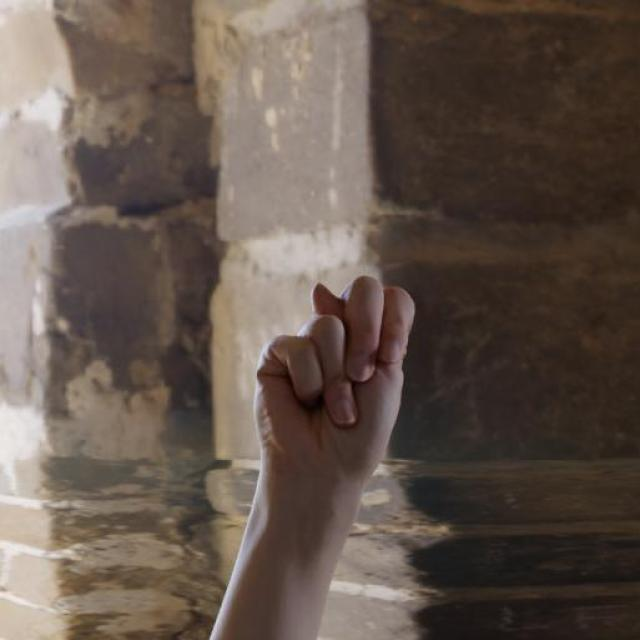N: (250, 270, 419, 481)
